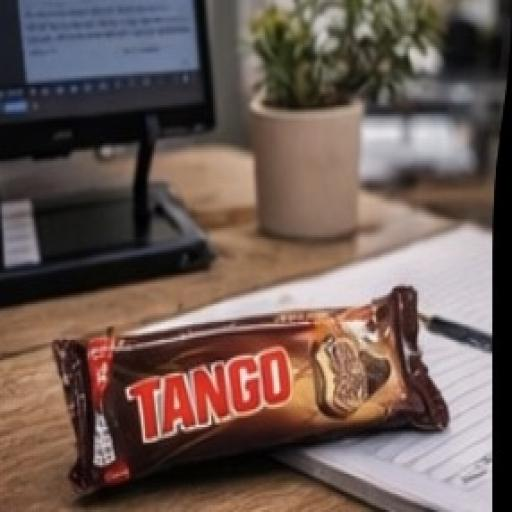tango: (52, 256, 472, 500)
